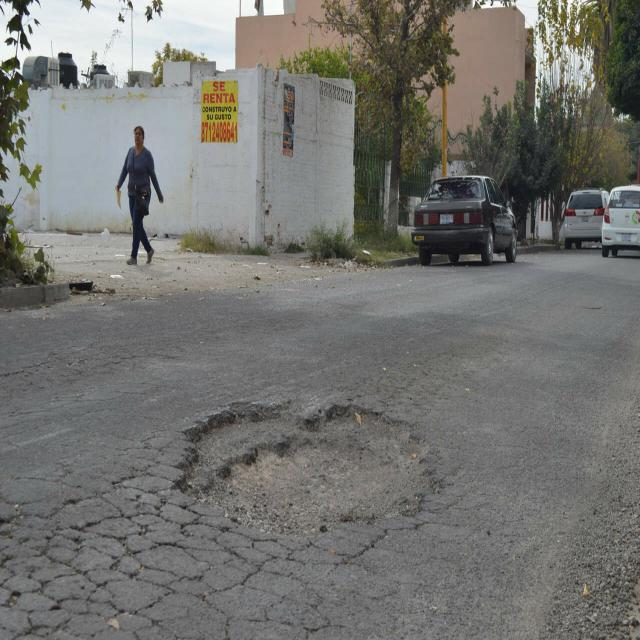pothole: (171, 361, 493, 603)
